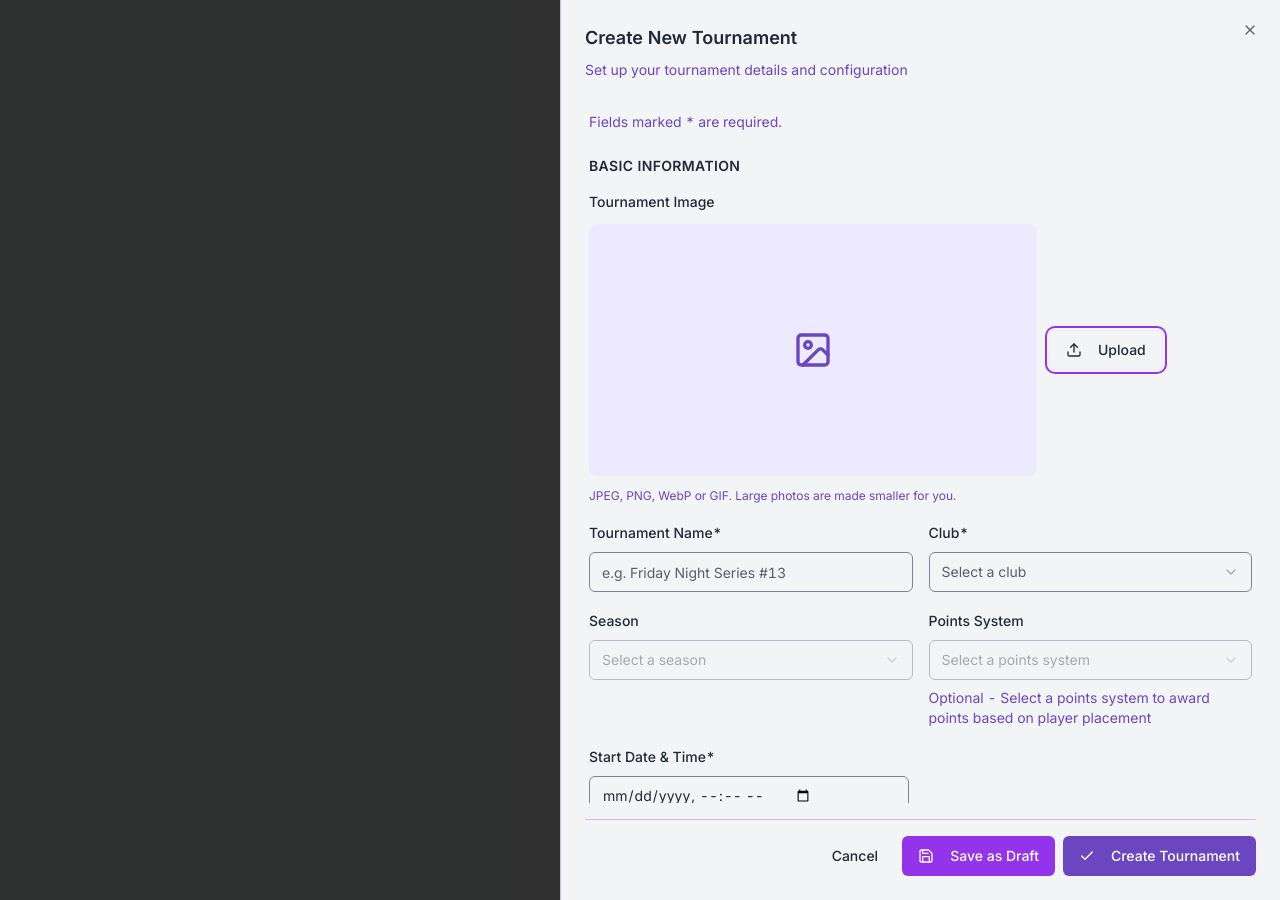
Test: CreateTournamentDialog › offers only the clubs the viewer runs
Expected: the dialog "Create New Tournament" is shown, [560,0,1279,899]
Click the dropdown with test id "club-select".
click(984, 572)  # box [928,552,1252,592]
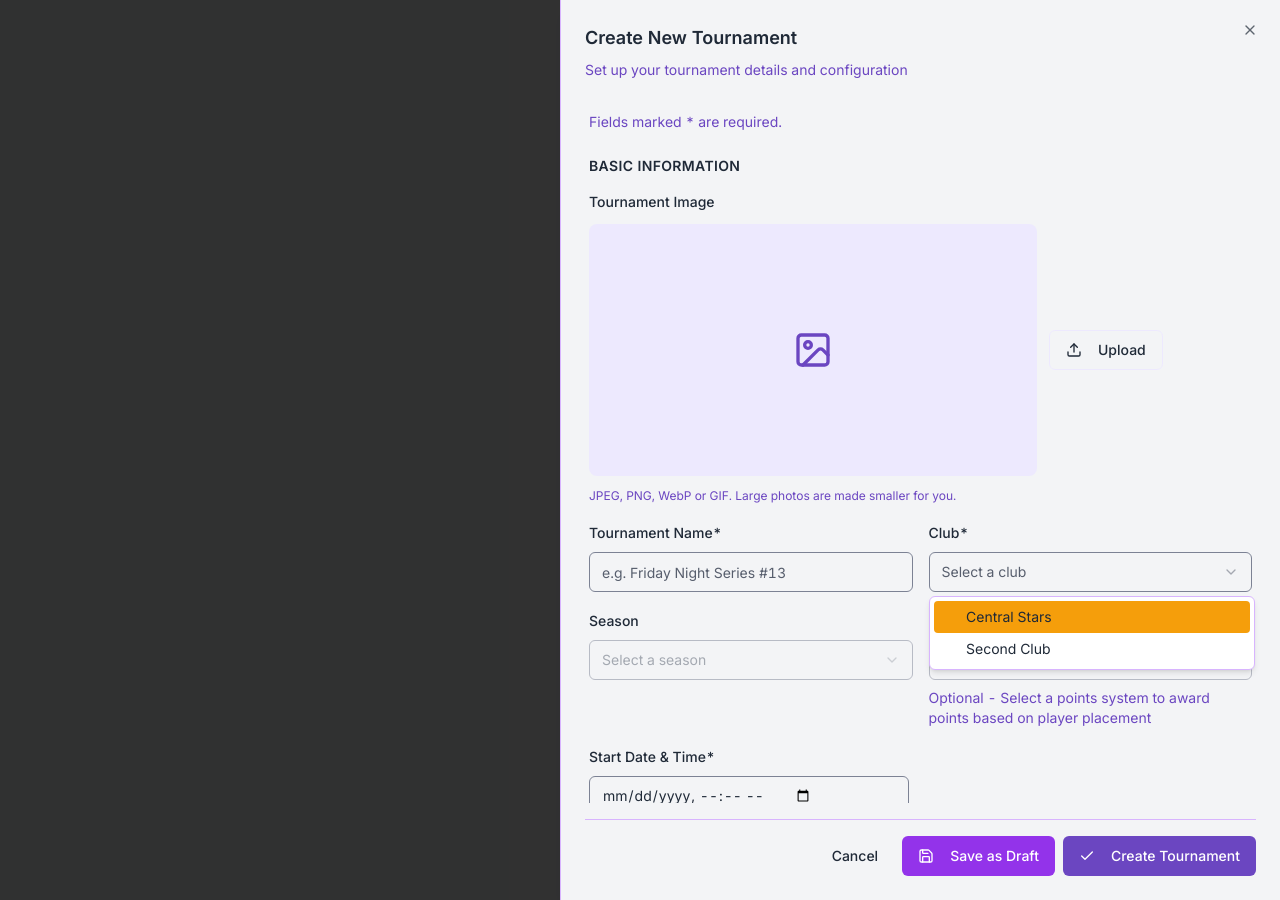
Now the options read "Central Stars", "Second Club", in this order, box [934,601,1250,633]; [966,640,1051,657]
